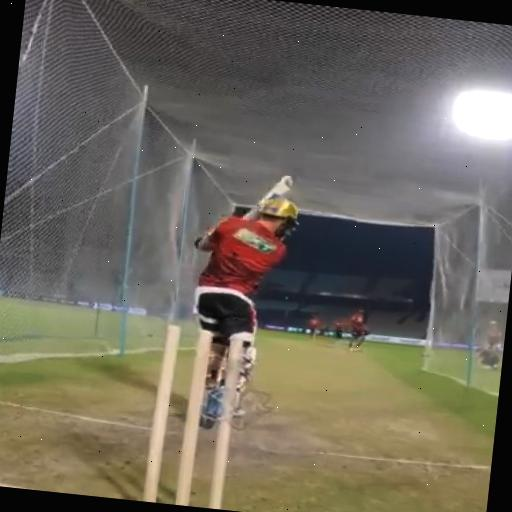Cricket bat: (246, 175, 291, 217)
